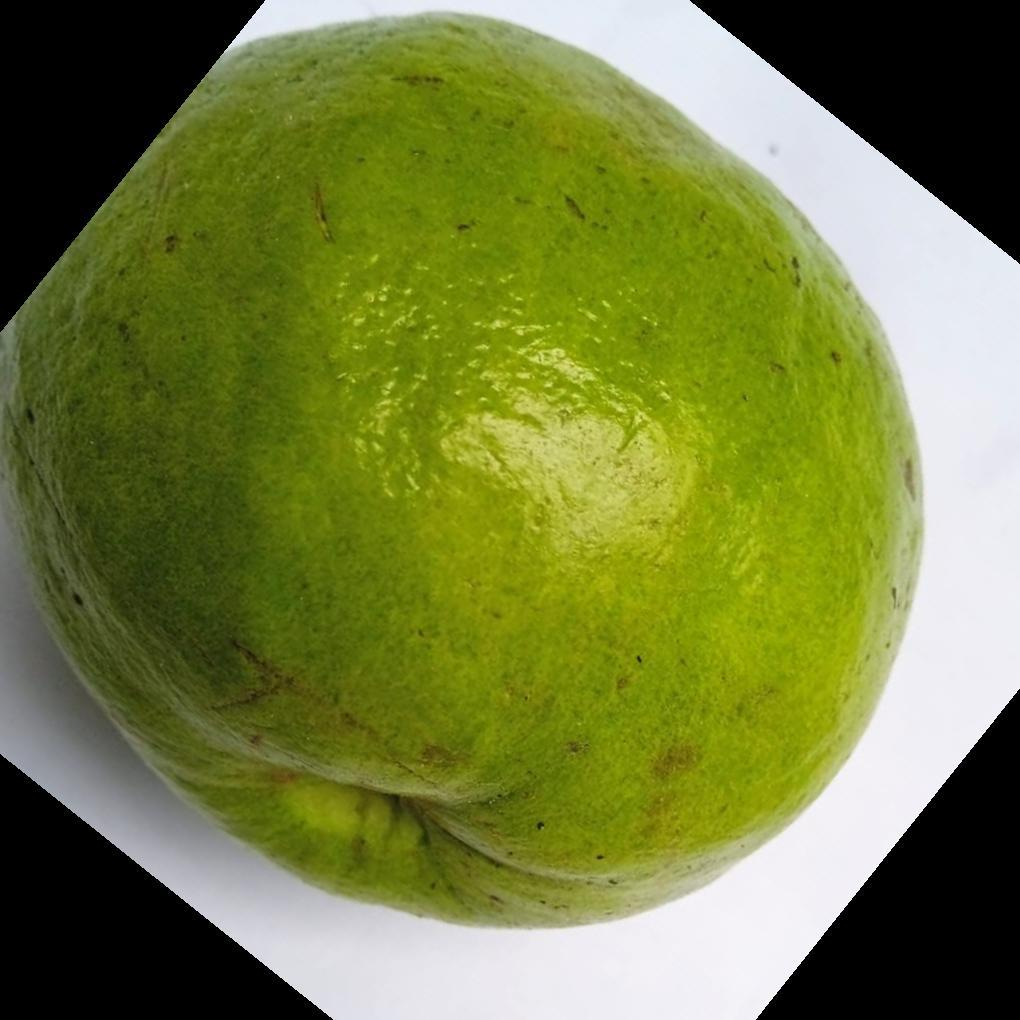FreshGuava: (0, 10, 930, 935)
